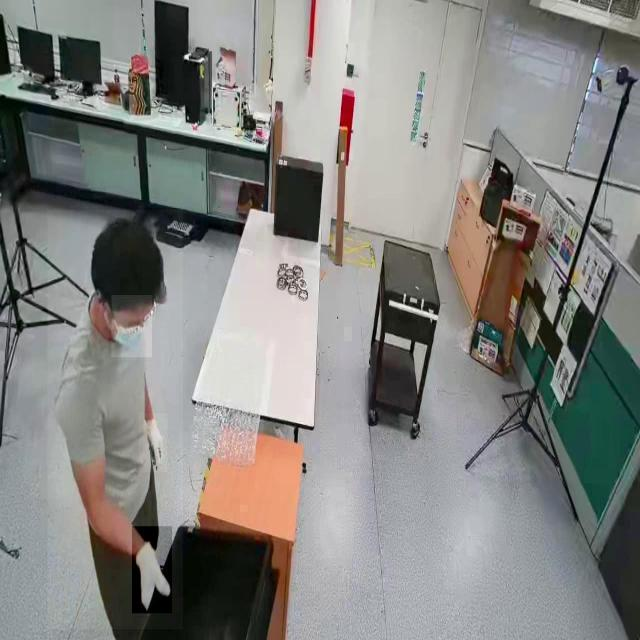face_mask: (112, 295, 152, 357)
hand_glove: (132, 526, 172, 614), (139, 413, 168, 473)
head_nohelmet: (91, 216, 163, 284)
person: (48, 210, 184, 630)
